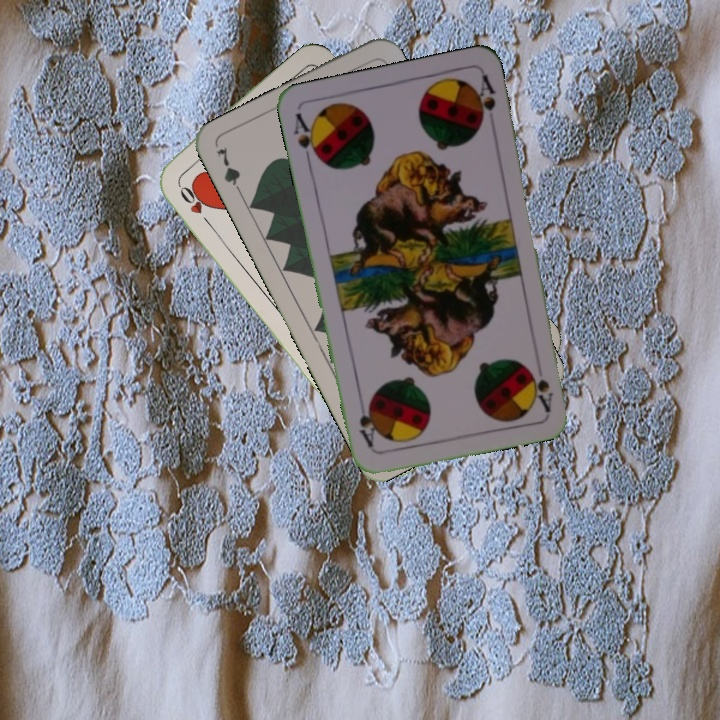G7: (212, 143, 246, 200)
HO: (173, 178, 215, 229)
SA: (289, 109, 323, 167), (532, 355, 556, 414)
